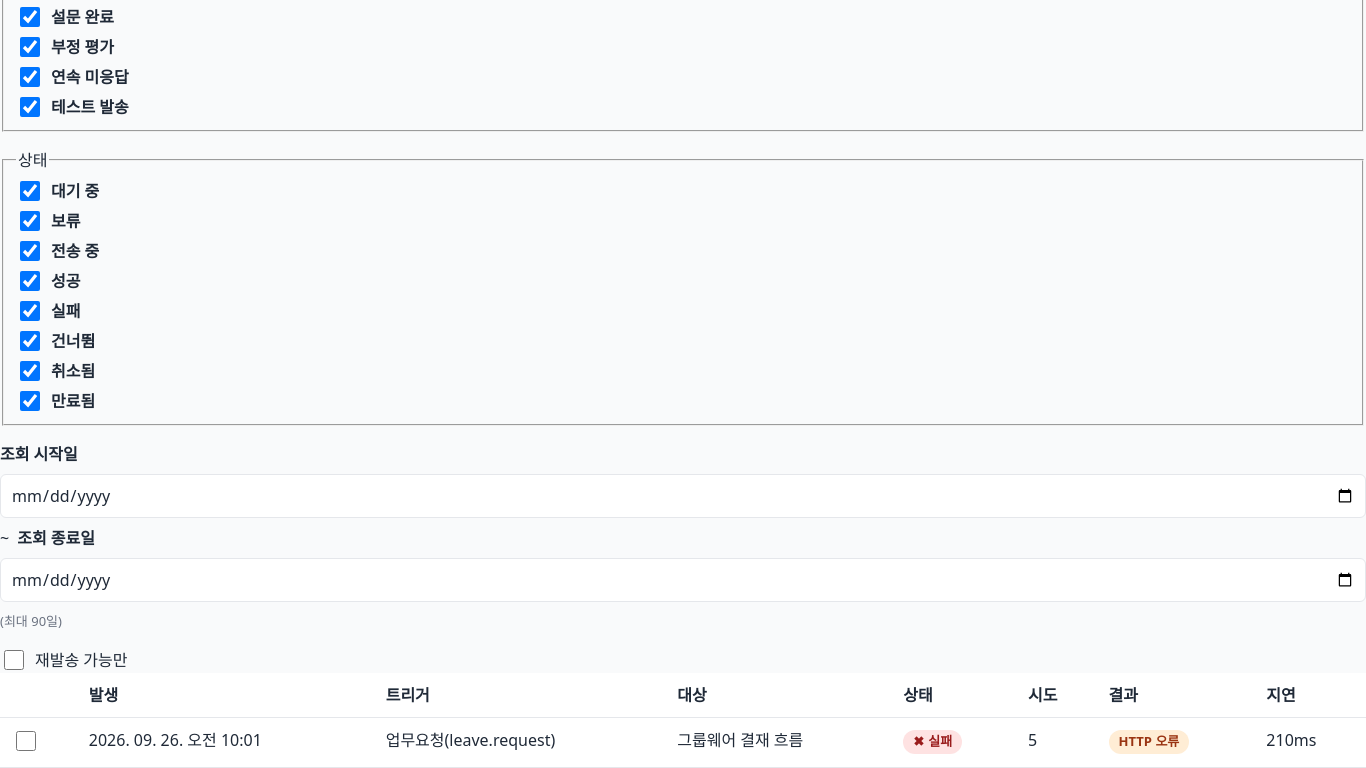
Test: ChatbotWorkflowRunsPage — 재발송/취소 › 코드리뷰 R1 L-5 — 필터를 바꾸면 선택이 초기화된다
The width and height of the screenshot is (1366, 768).
(page scrolled)
Expected: the text "그룹웨어 결재 흐름" is shown, [665,718,891,767]
Click the checkbox named "7f1c2e3a-aaaa-4aaa-8aaa-aaaaaaaaaaaa 선택" at (26, 741), box [16,731,36,751]
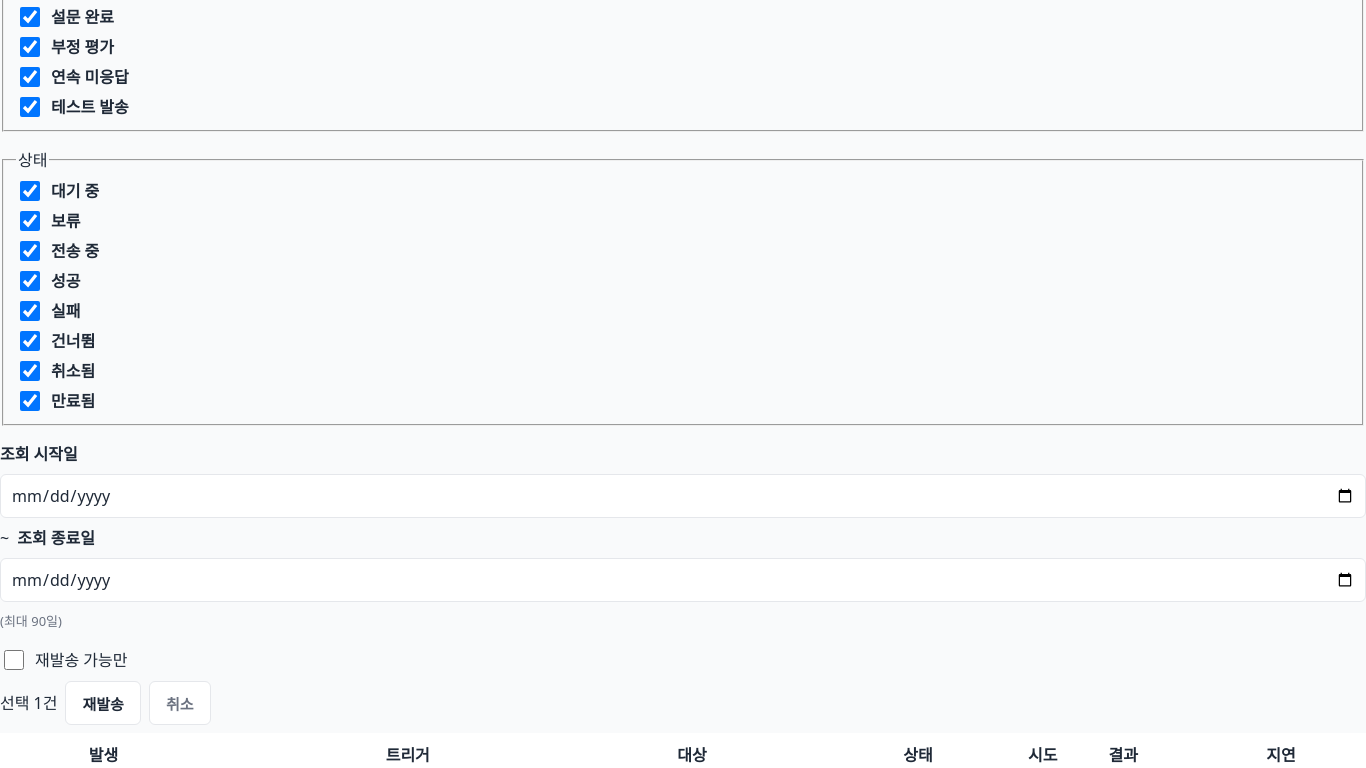
Expected: the text "선택 1건" is shown, [0,691,58,715]
Click the checkbox labelled "재발송 가능만" at (14, 660), box [4,650,24,670]
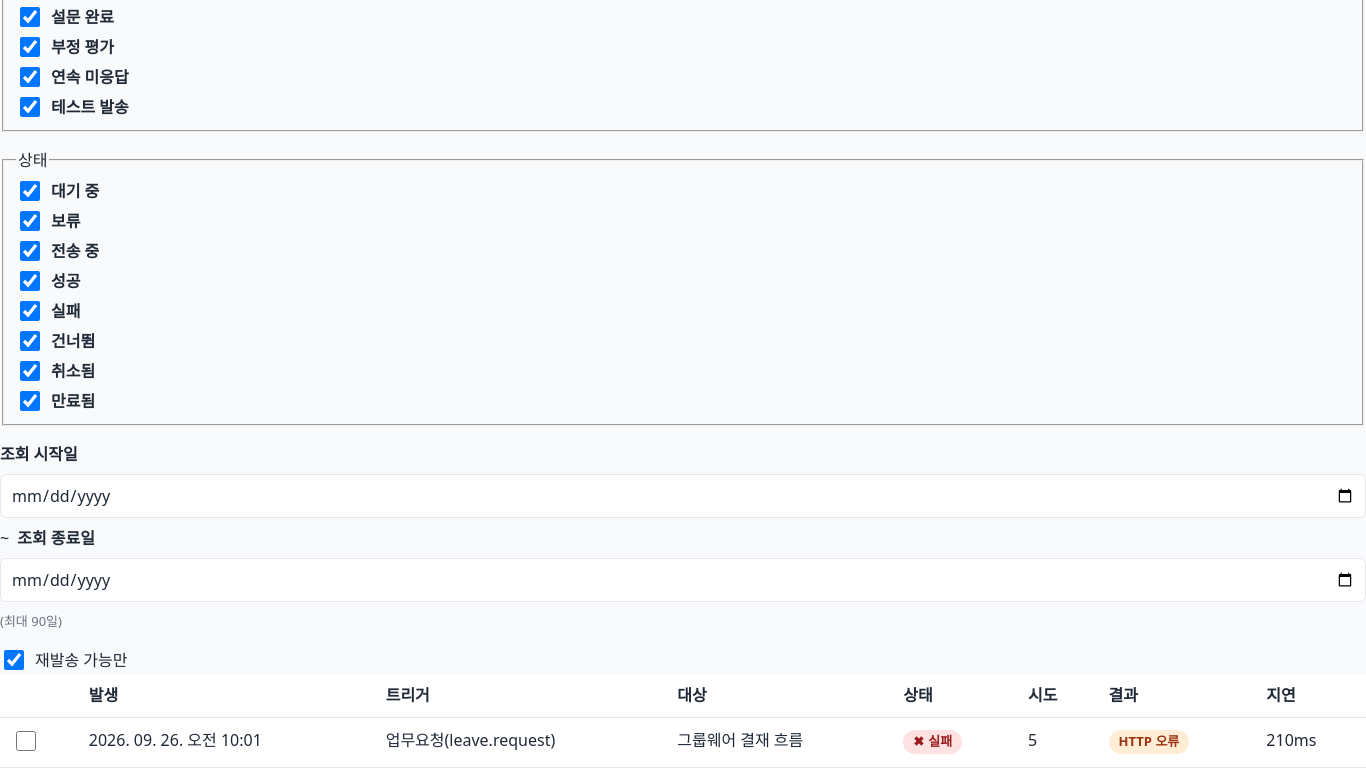
Expected: the text "선택 1건" is gone
